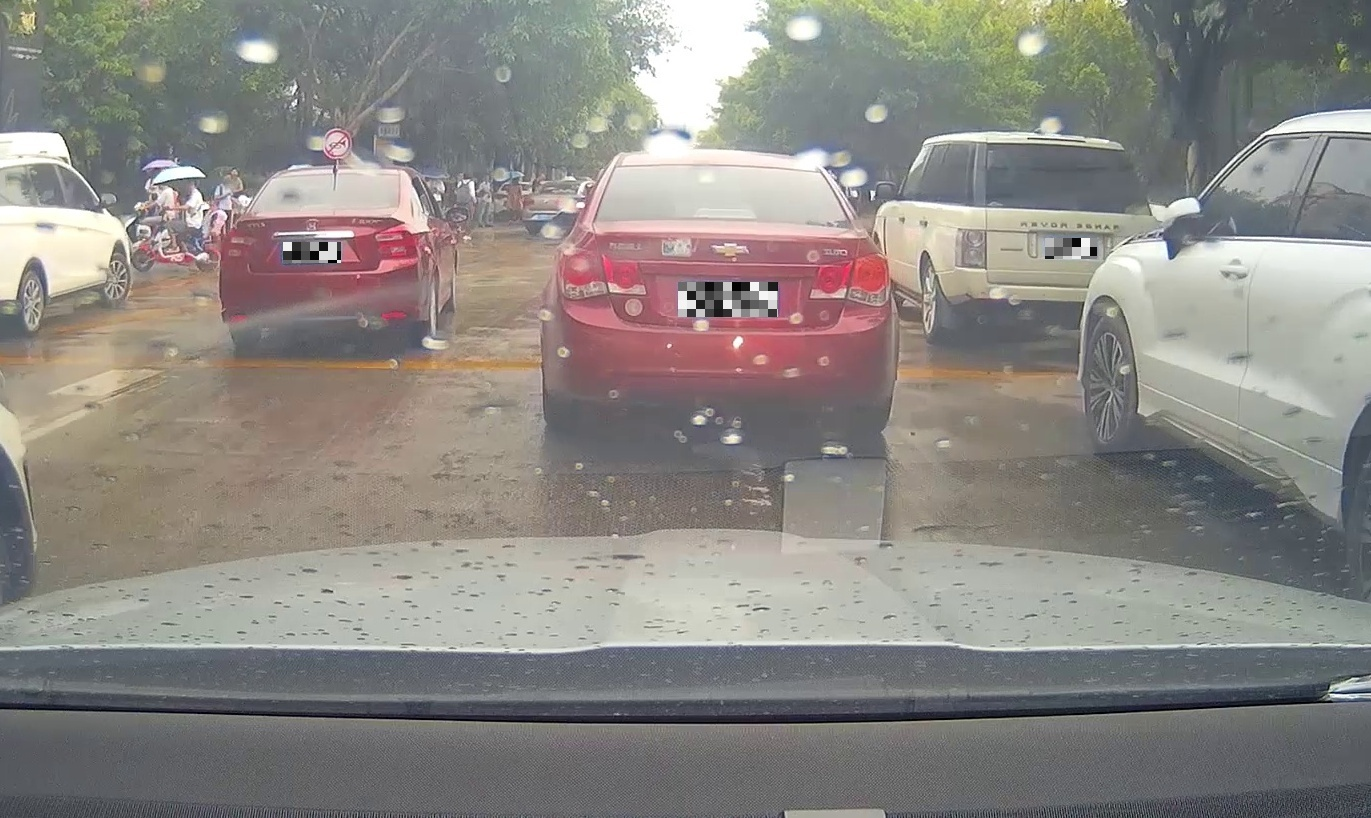L_light: (556, 243, 646, 301), (221, 231, 255, 256)
R_light: (808, 252, 891, 307), (374, 223, 418, 259)
T_light: (693, 207, 757, 221), (302, 205, 329, 211)
day-no: (542, 149, 901, 432), (218, 166, 421, 347)
plate_1: (283, 242, 341, 263)
plate_2: (678, 282, 778, 317)
plate_3: (1045, 238, 1097, 259)
